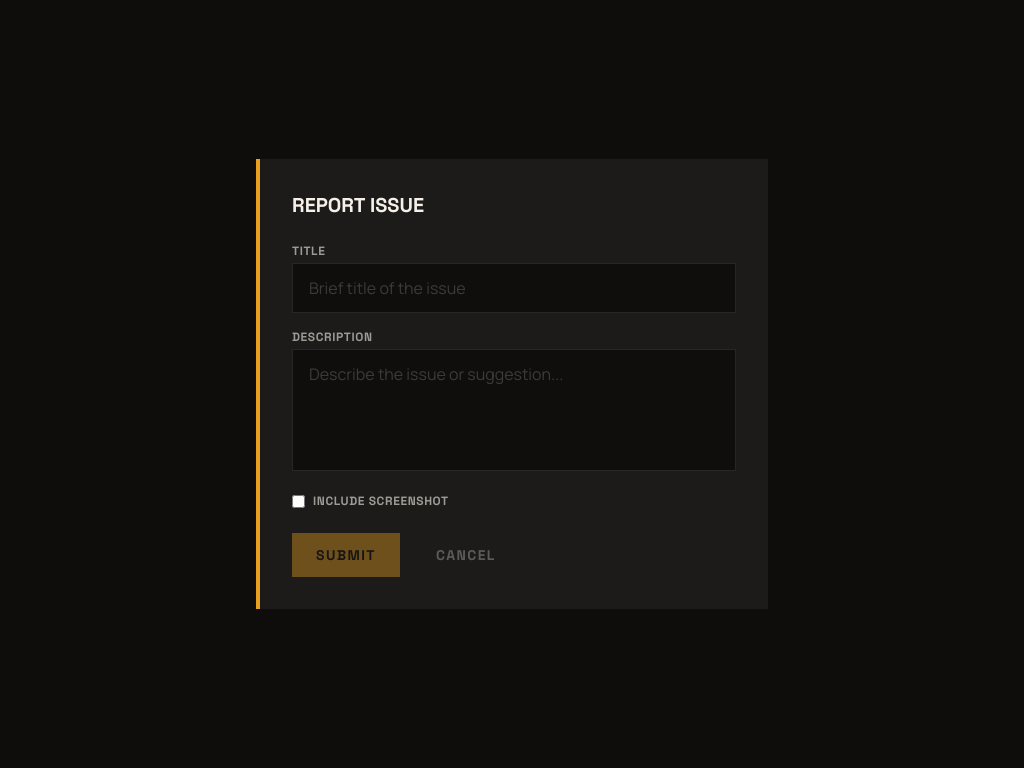
ReportIssueModal › submit button is enabled when both fields have text
In the field with placeholder "Brief title of the issue": (514, 288) [292, 263, 736, 313], type "Bug title"
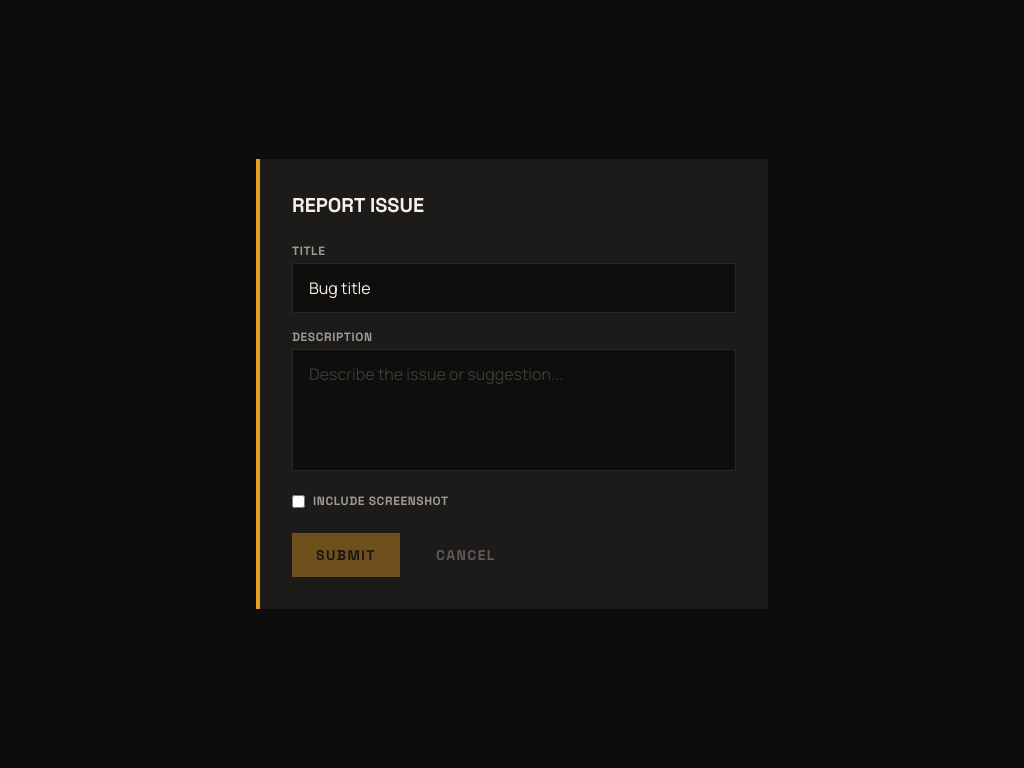
In the text box with placeholder "Describe the issue or suggestion...": (514, 410) [292, 349, 736, 471], type "Some description"
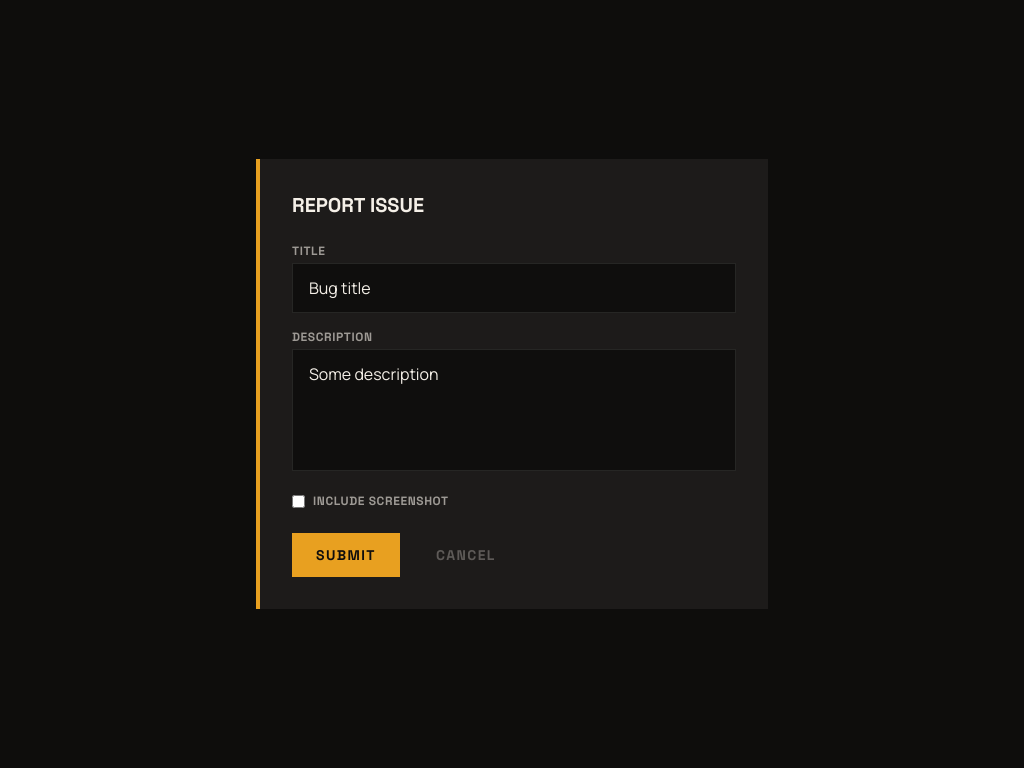
Expected: the button "Submit" is enabled, [292, 533, 400, 577]
